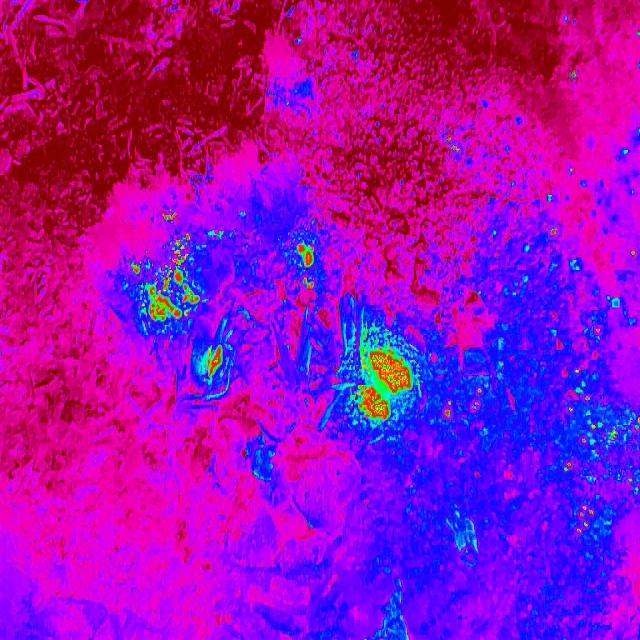fire: (538, 217, 640, 544), (126, 208, 210, 329), (350, 325, 420, 431), (440, 378, 484, 422), (198, 340, 226, 388), (290, 241, 320, 270), (442, 134, 465, 154)
